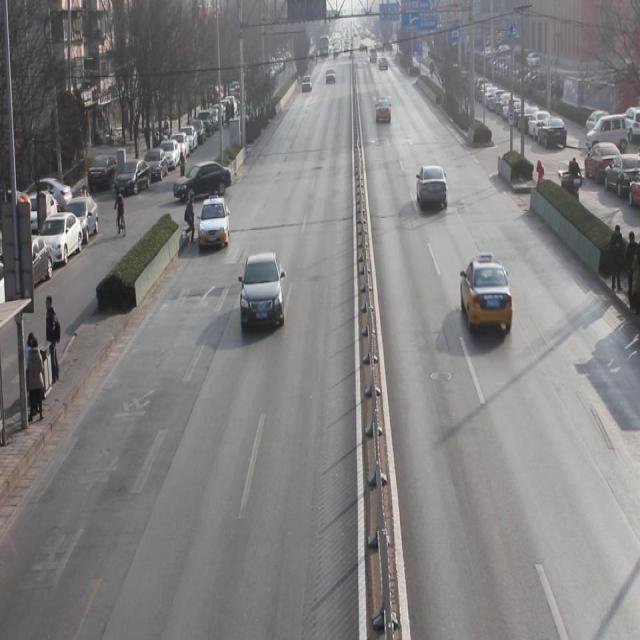car: (458, 256, 516, 333), (240, 253, 287, 332), (197, 191, 230, 257), (413, 163, 451, 215)
